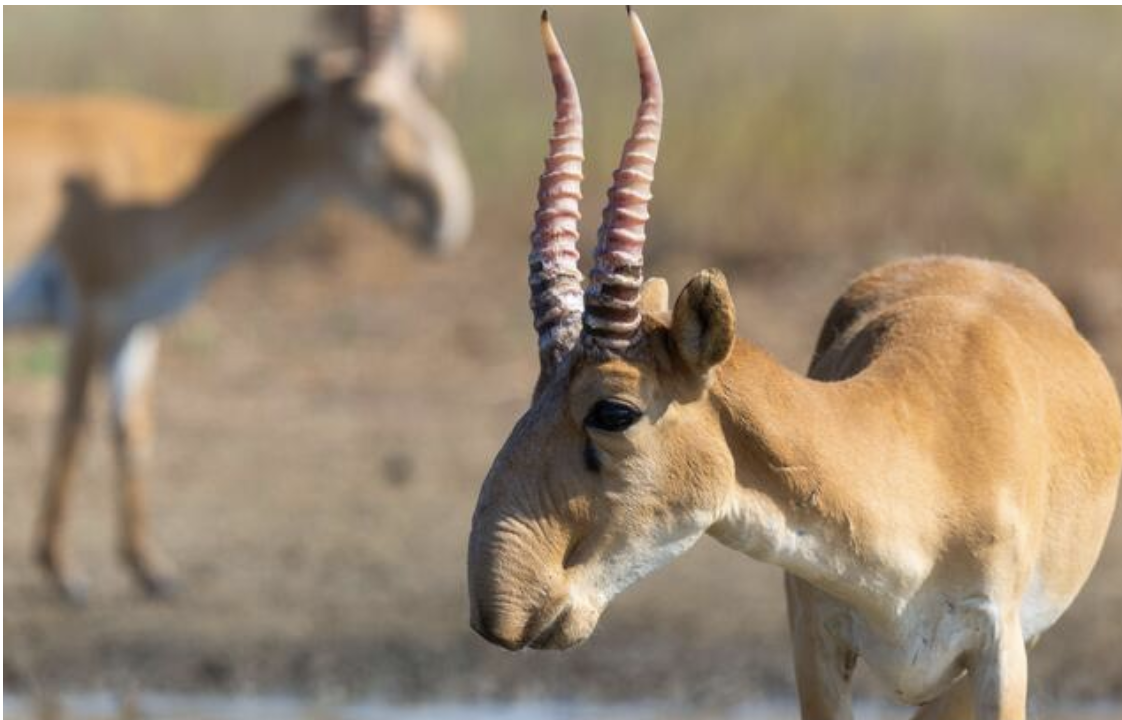saiga: (470, 12, 1122, 694)
